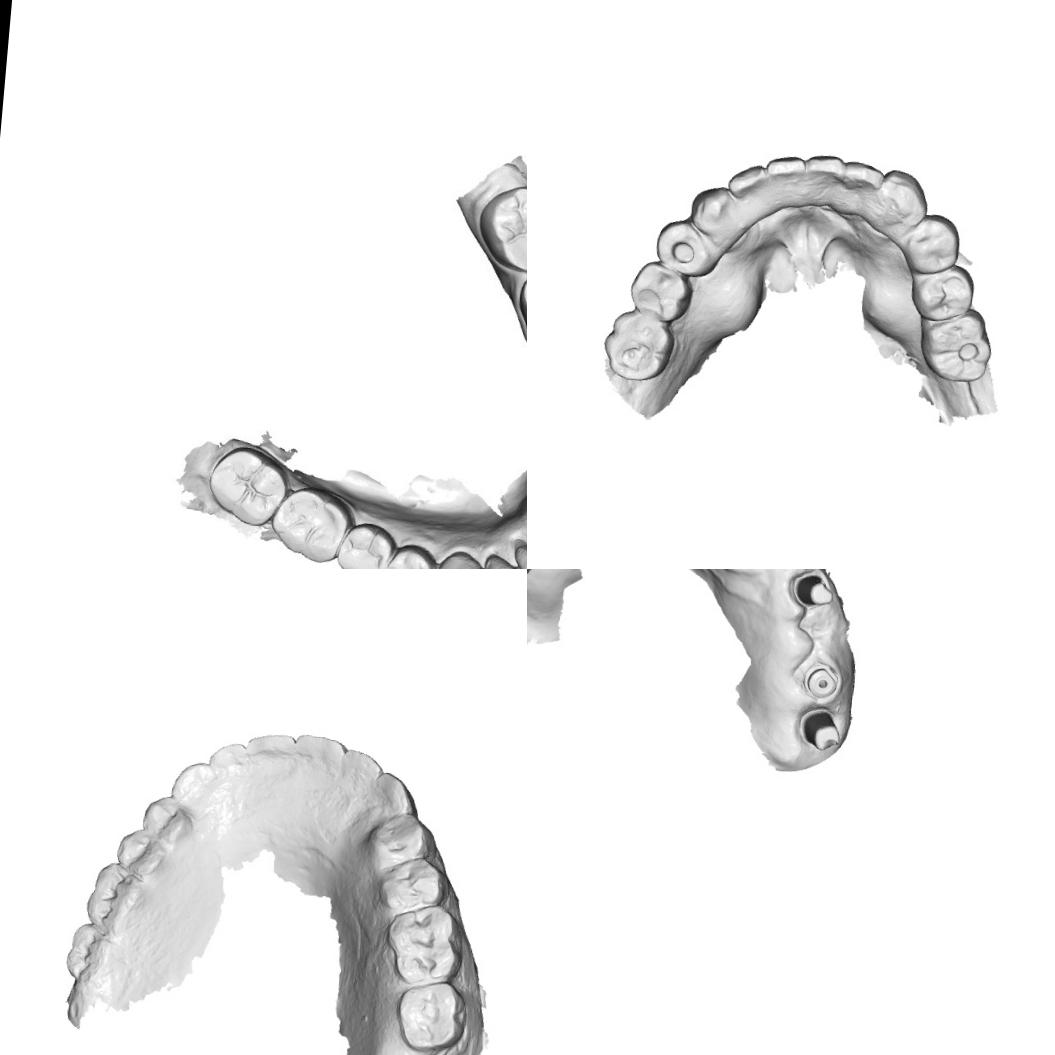abutment: (796, 705, 844, 752), (784, 569, 837, 611)
canine: (878, 166, 930, 230), (168, 758, 222, 812), (686, 182, 735, 235), (370, 769, 421, 817), (433, 550, 486, 569)
implant: (800, 662, 840, 700)
incisor: (763, 150, 807, 204), (242, 728, 296, 769), (803, 152, 846, 202), (841, 158, 884, 208), (293, 730, 348, 768), (338, 744, 384, 788), (725, 160, 768, 204), (205, 738, 246, 782), (481, 550, 527, 569)
molar: (380, 899, 466, 990), (265, 490, 354, 564), (916, 303, 994, 384), (392, 977, 470, 1055), (205, 449, 286, 524), (600, 308, 677, 384), (80, 857, 148, 927), (60, 918, 128, 986), (481, 185, 527, 272)
premolar: (361, 806, 441, 873), (374, 852, 452, 918), (626, 258, 694, 324), (908, 260, 976, 324), (653, 216, 715, 278), (904, 211, 962, 277), (138, 793, 197, 848), (112, 824, 168, 878), (336, 526, 395, 569), (380, 547, 434, 569)
